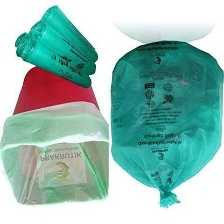plastic_bag: (102, 39, 224, 216), (0, 99, 112, 208), (12, 41, 96, 90), (29, 20, 98, 77), (40, 5, 100, 63), (7, 19, 40, 52)
